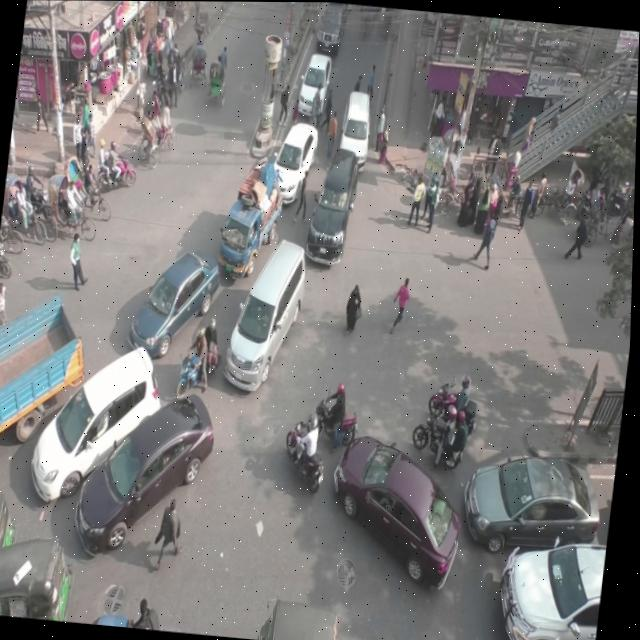cng: (0, 525, 79, 621)
rikshaw: (60, 147, 120, 226), (43, 167, 98, 250), (436, 148, 484, 225), (135, 97, 182, 170), (155, 34, 189, 103), (205, 54, 238, 120), (183, 32, 215, 98)
